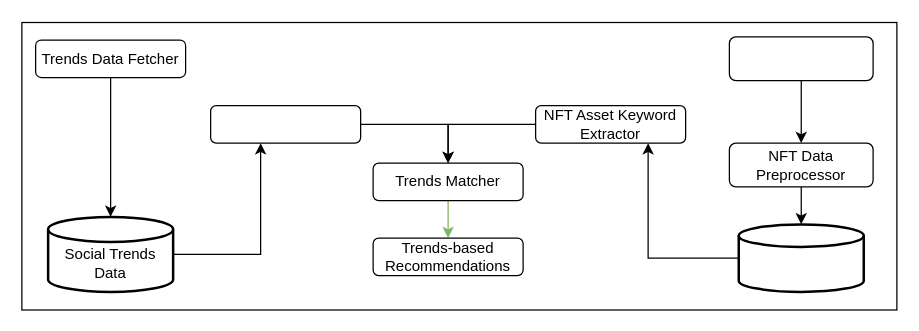
This 919x331 diagram has some shape labels left out. The centre of each missing label's shape, as x and y in pixels:
"NFT Asset Data" belongs at (800,257).
"NFT Data Fetcher" belongs at (800,58).
"Trends Score Calculator" belongs at (285,123).
